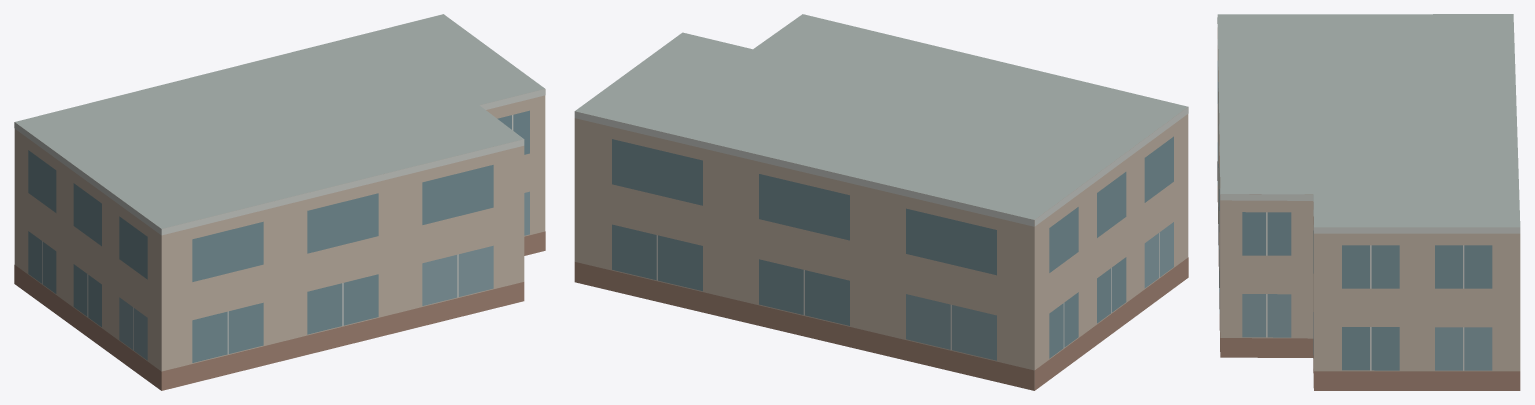
The model's file is survey-upis-32751258.glb.
3 views of the same model, side by side, from view 1: azimuth 30°, elevation 25°; view 2: azimuth 150°, elevation 25°; view 3: azimuth 270°, elevation 25° (orthographic). The views are drawn at different scales.
Visible parts, largest first — view 1: survey-upis-32751258.tmp; view 2: survey-upis-32751258.tmp; view 3: survey-upis-32751258.tmp.
Boxes of the visible parts, x1=… form: survey-upis-32751258.tmp: x1=14, y1=14, x2=545, y2=390; survey-upis-32751258.tmp: x1=574, y1=14, x2=1188, y2=390; survey-upis-32751258.tmp: x1=1217, y1=14, x2=1520, y2=390.
Bounding box in the file's own units: 17.06 × 6.1 × 10.24.
